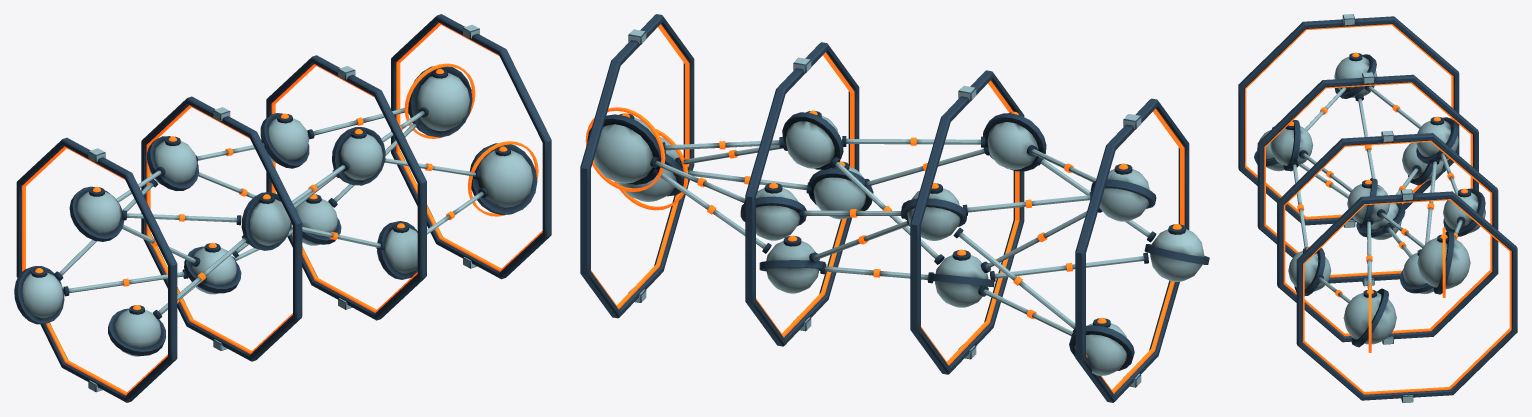
3 renders of one model, left to right at view 1: azimuth 30°, elevation 25°; view 2: azimuth 150°, elevation 25°; view 3: azimuth 270°, elevation 25°, orthographic. The views are drawn at different scales.
Visible parts, largest first — view 1: ai__marco_1, ai__marco_4, ai__marco_2, ai__marco_3, ai__nodo_11, ai__nodo_12, ai__nodo_08, ai__nodo_03, ai__nodo_02, ai__nodo_01, ai__nodo_04, ai__nodo_06 (+11 smaller); view 2: ai__marco_4, ai__marco_1, ai__marco_3, ai__marco_2, ai__nodo_12, ai__nodo_08, ai__nodo_04, ai__nodo_01, ai__nodo_09, ai__nodo_05, ai__nodo_02, ai__nodo_03 (+21 smaller); view 3: ai__marco_4, ai__marco_3, ai__marco_1, ai__marco_2, ai__nodo_11, ai__nodo_12, ai__nodo_04, ai__nodo_06, ai__nodo_10, ai__nodo_02, ai__nodo_07, ai__nodo_08 (+12 smaller).
Part boxes in pixels (x1,y1,x2,y2): ai__marco_1: (16,137,177,402); ai__marco_4: (391,14,551,279); ai__marco_2: (141,96,302,361); ai__marco_3: (266,55,426,320); ai__nodo_11: (468,141,538,216); ai__nodo_12: (404,63,475,138); ai__nodo_08: (332,127,385,185); ai__nodo_03: (14,266,64,324); ai__nodo_02: (69,186,124,241); ai__nodo_01: (108,305,165,356); ai__nodo_04: (241,192,291,250); ai__nodo_06: (147,136,198,190); ai__marco_4: (580,14,694,318); ai__marco_1: (1075,98,1189,402); ai__marco_3: (745,42,859,346); ai__marco_2: (910,70,1024,374); ai__nodo_12: (585,107,665,191); ai__nodo_08: (782,110,843,169); ai__nodo_04: (983,111,1046,171); ai__nodo_01: (1144,224,1209,281); ai__nodo_09: (759,235,825,293); ai__nodo_05: (928,249,994,307); ai__nodo_02: (1090,163,1156,221); ai__nodo_03: (1069,318,1134,375); ai__marco_4: (1296,189,1517,402); ai__marco_3: (1277,130,1498,344); ai__marco_1: (1238,14,1459,227); ai__marco_2: (1257,72,1478,286); ai__nodo_11: (1343,283,1396,352); ai__nodo_12: (1417,227,1470,297); ai__nodo_04: (1270,120,1313,171); ai__nodo_06: (1416,116,1458,163); ai__nodo_10: (1443,188,1485,236); ai__nodo_02: (1334,52,1377,98); ai__nodo_07: (1288,246,1331,295); ai__nodo_08: (1347,178,1389,229).
Bounding box in the file's own units: 3.96 × 1.82 × 2.2.
